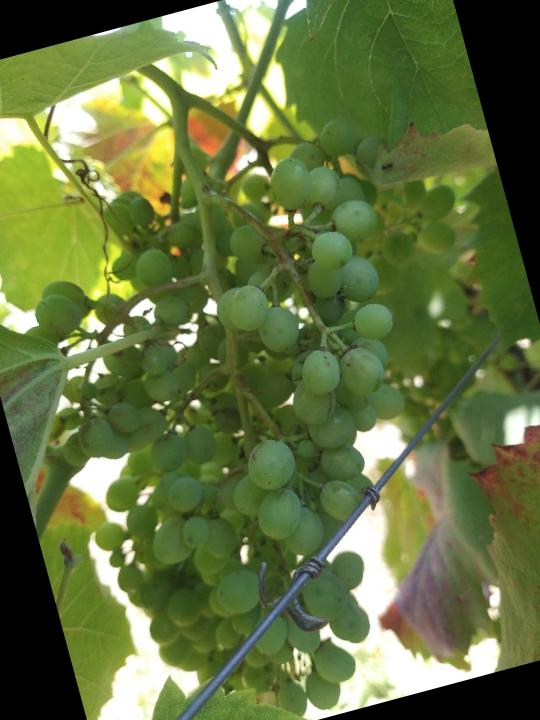grape: (0, 82, 540, 720)
